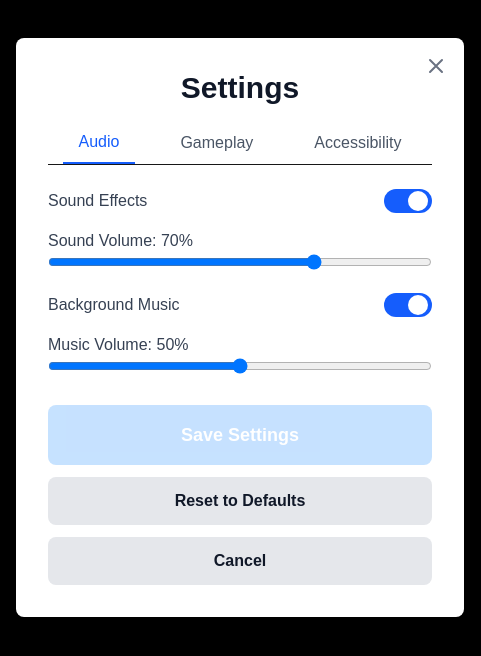
Test: SettingsMenu › changes sound volume
Set the slider named "Sound Volume" to "85": point(369, 262) [48,254,432,270]
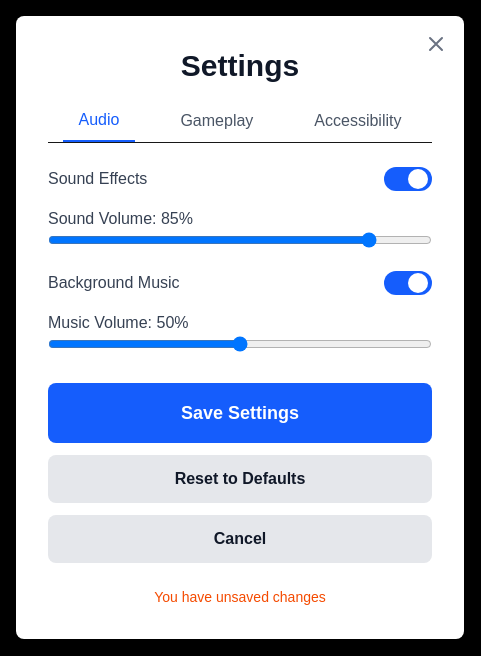
Check: the text "Sound Volume: 85%" is shown, box [48,210,193,226]
